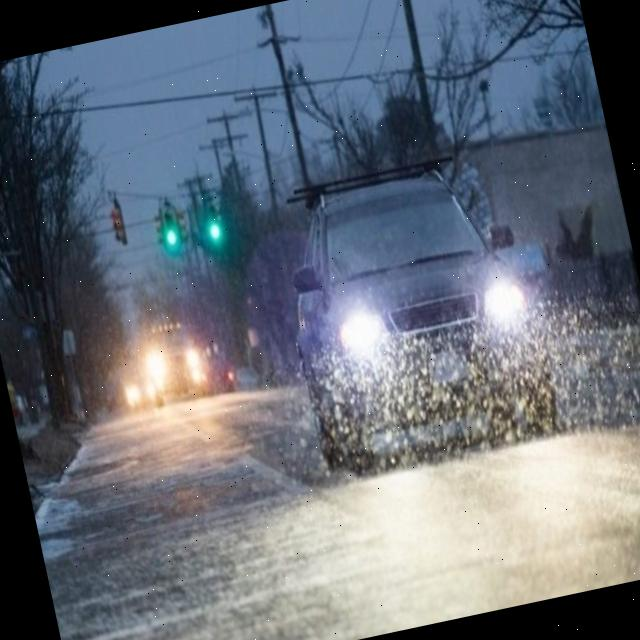car: (262, 144, 564, 482), (138, 318, 206, 400)
